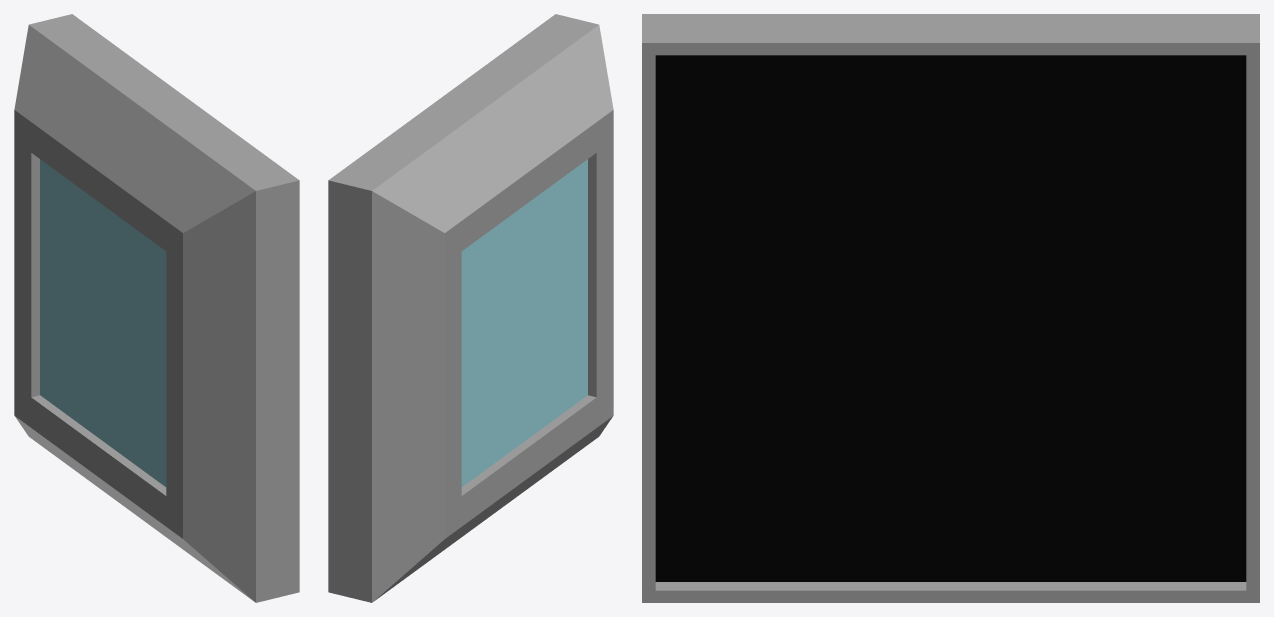
The model's file is Screen Small.fbx.
3 views of the same model, side by side, from view 1: azimuth 30°, elevation 25°; view 2: azimuth 150°, elevation 25°; view 3: azimuth 270°, elevation 25° (orthographic). The views are drawn at different scales.
Visible parts, largest first — view 1: screen_small; view 2: screen_small; view 3: screen_small.
Part boxes in pixels (left/top/right/bottom): screen_small: left=14, top=14, right=299, bottom=602; screen_small: left=328, top=14, right=613, bottom=602; screen_small: left=642, top=14, right=1259, bottom=602.
Bounding box in the file's own units: 2.51 × 11.32 × 11.32.
